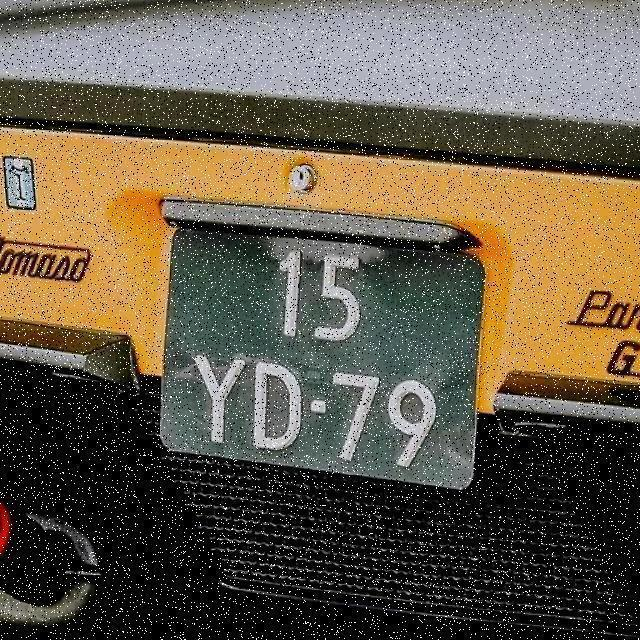license_plate: (156, 222, 492, 498)
